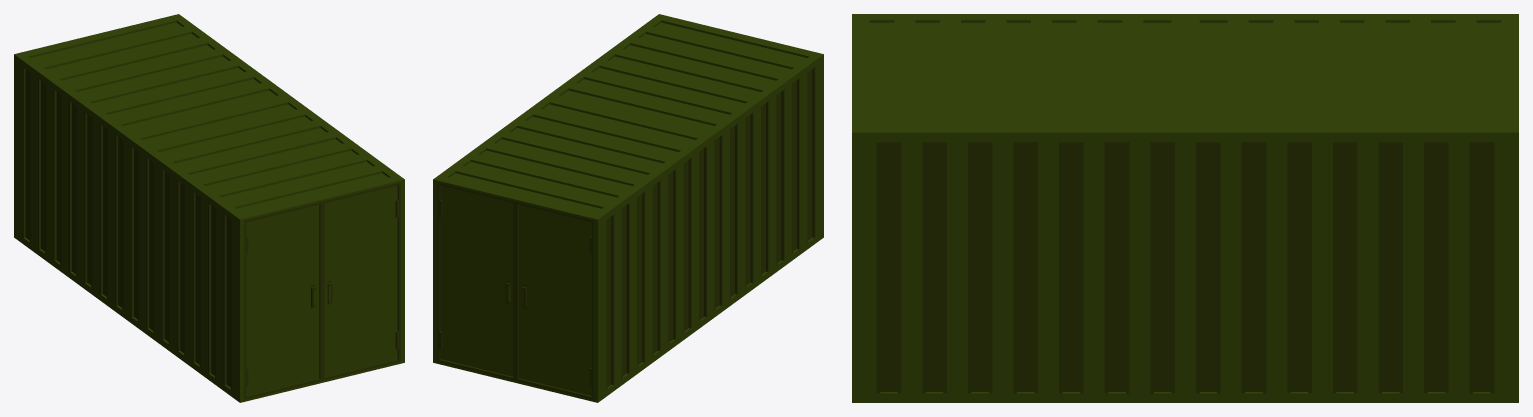
Rendered from Container_green.vox.obj.
3 renders of one model, left to right at view 1: azimuth 30°, elevation 25°; view 2: azimuth 150°, elevation 25°; view 3: azimuth 270°, elevation 25°, orthographic. The views are drawn at different scales.
Bounding box in the file's own units: 8 × 8.5 × 19.
Materials: 1 (1 with a texture image).
